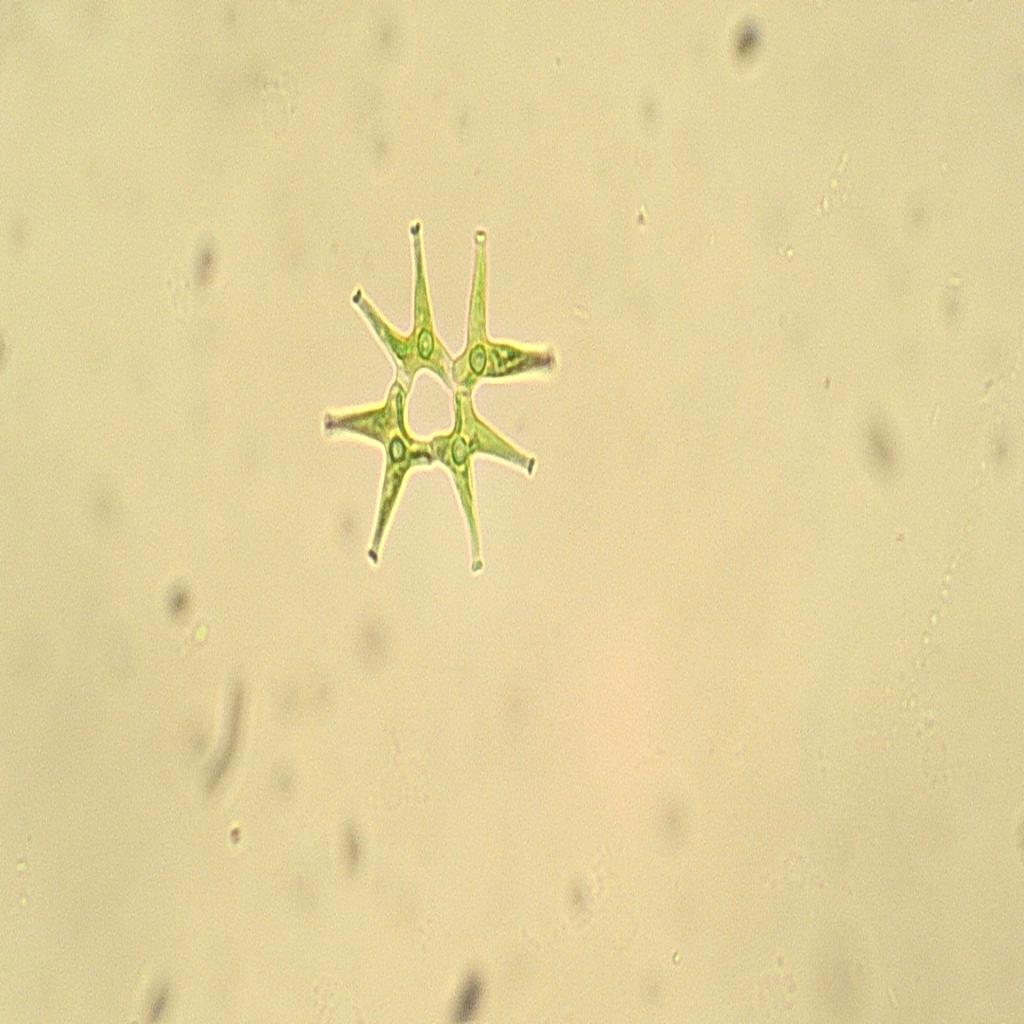Pediastrum_CT: (300, 214, 581, 585)
